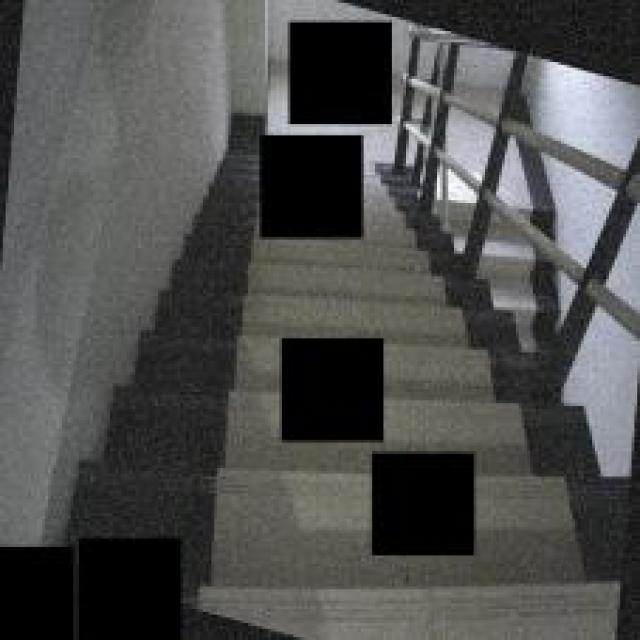downstair: (197, 245, 471, 333)
